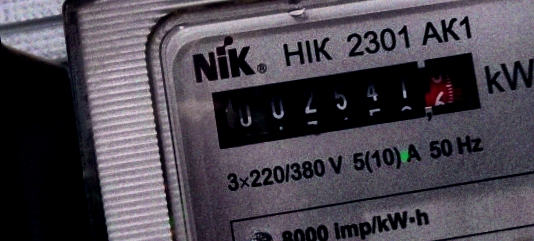0: (264, 86, 288, 122), (234, 97, 255, 128)
1: (390, 66, 411, 101)
2: (295, 81, 320, 117)
4: (360, 71, 381, 104)
5: (329, 79, 349, 113)
6: (428, 85, 447, 108)
screen: (194, 34, 503, 165)
